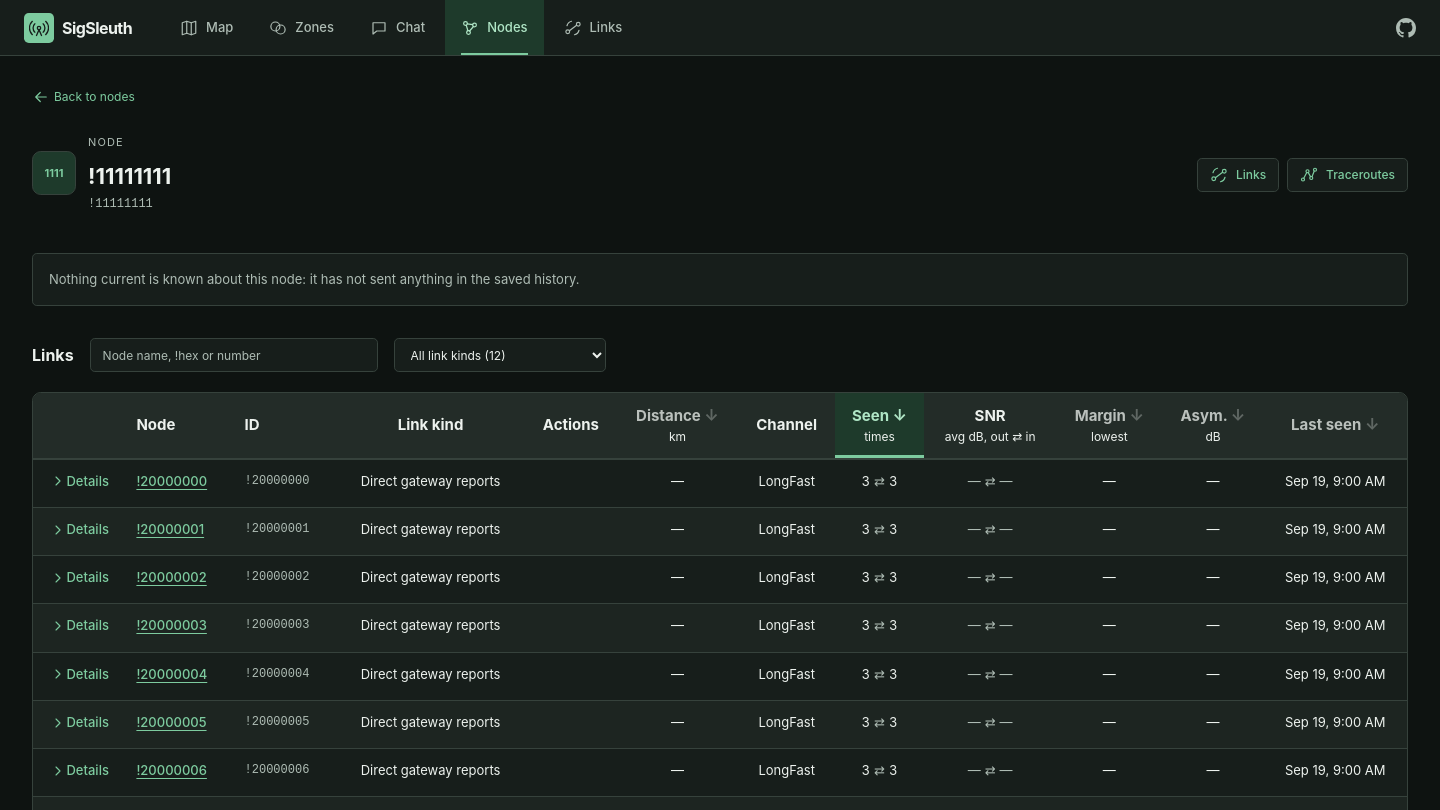
Test: Node detail › searches a node's links by their other end, ten at a time
The width and height of the screenshot is (1440, 810).
Step 1. Type "mill" into the search field named "Search links by node" → (234, 355), box [90,338,378,372]
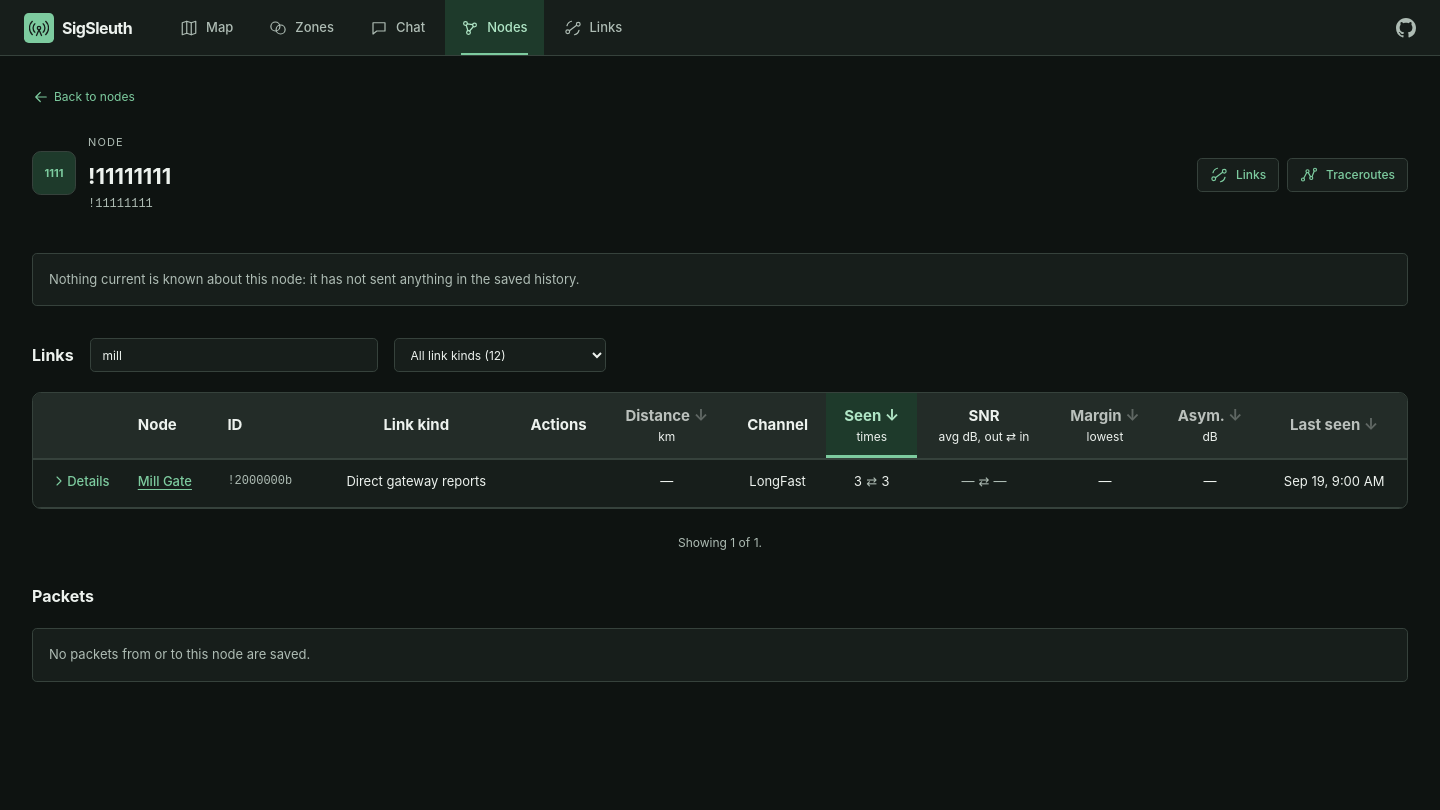
Expected: the text "Showing 1 of 1." is shown, [678,535,762,550]
Expected: the link "Mill Gate" is shown, [138,473,192,489]
